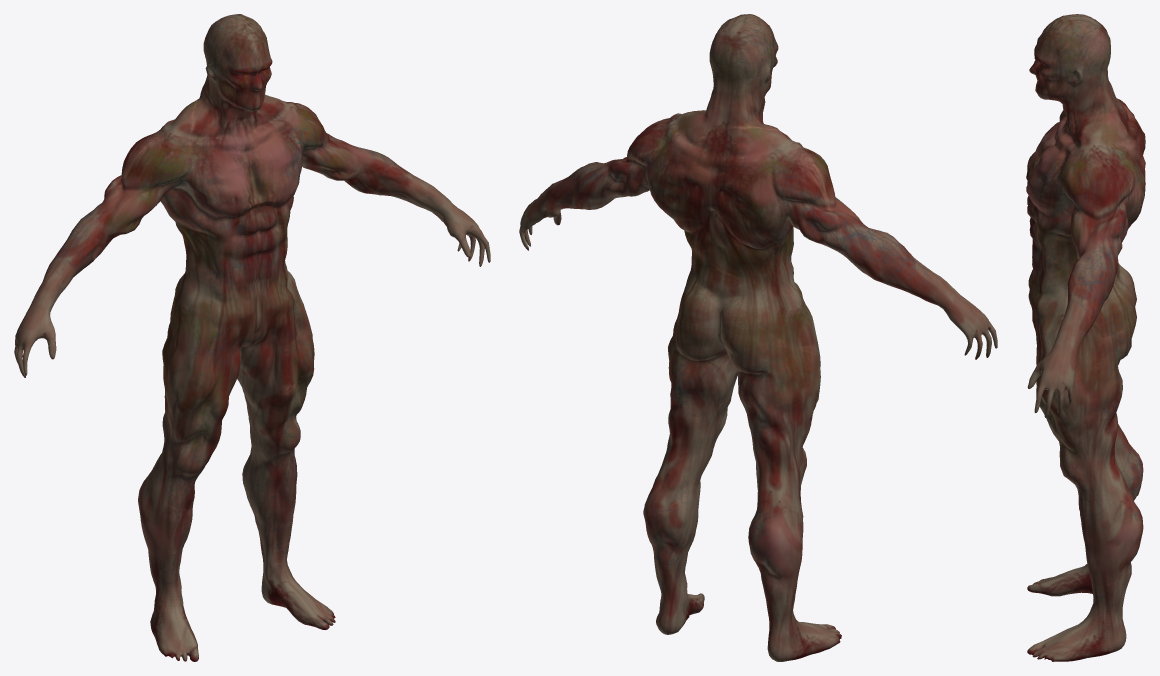
The model's file is ZOMBIEFBX.fbx.
The picture shows the model from 3 angles, left to right: view 1: azimuth 30°, elevation 25°; view 2: azimuth 150°, elevation 25°; view 3: azimuth 270°, elevation 25°; orthographic projection.
Parts seen in each view (by area): view 1: male_zbrush; view 2: male_zbrush; view 3: male_zbrush.
Boxes of the visible parts, x1,y1,x2,y2 form: male_zbrush: [14, 14, 490, 661]; male_zbrush: [519, 14, 997, 661]; male_zbrush: [1026, 14, 1145, 661].
Bounding box in the file's own units: 226 × 284 × 50.62.
1 material, 1 textured.
